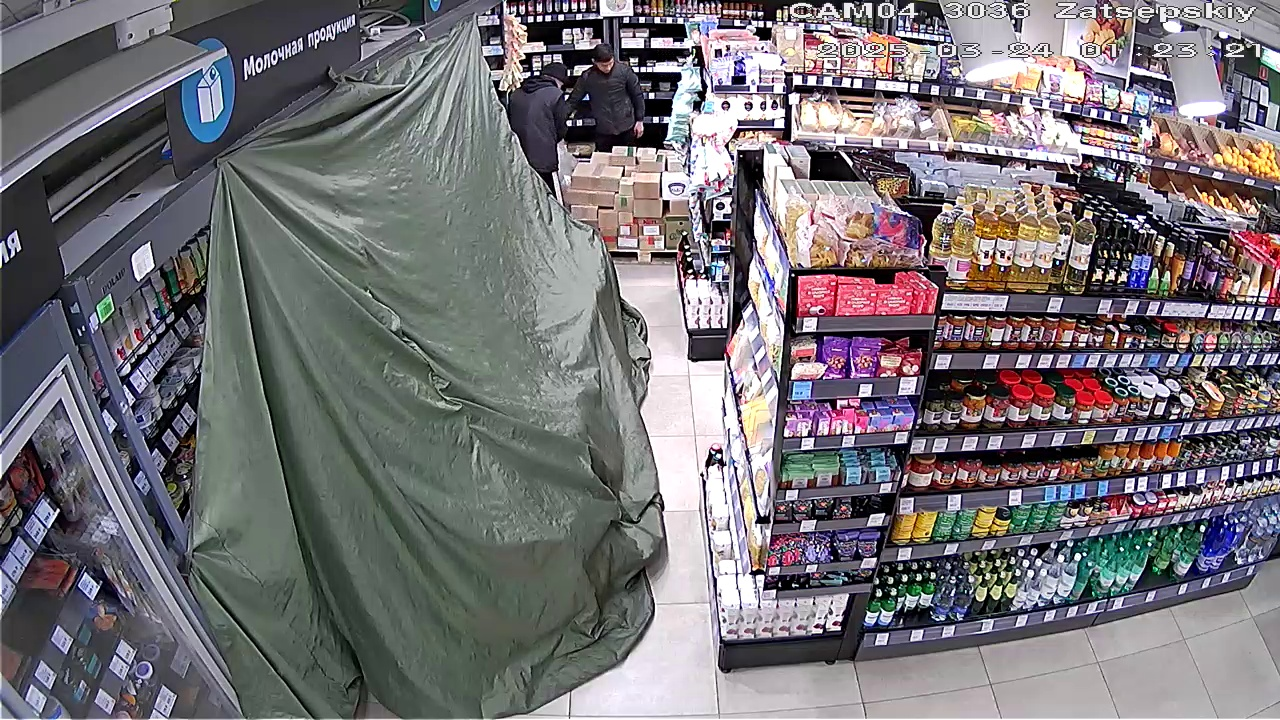Human: (557, 35, 648, 144), (498, 51, 558, 168)
dome: (206, 25, 654, 712)
pallet: (565, 150, 699, 262)
